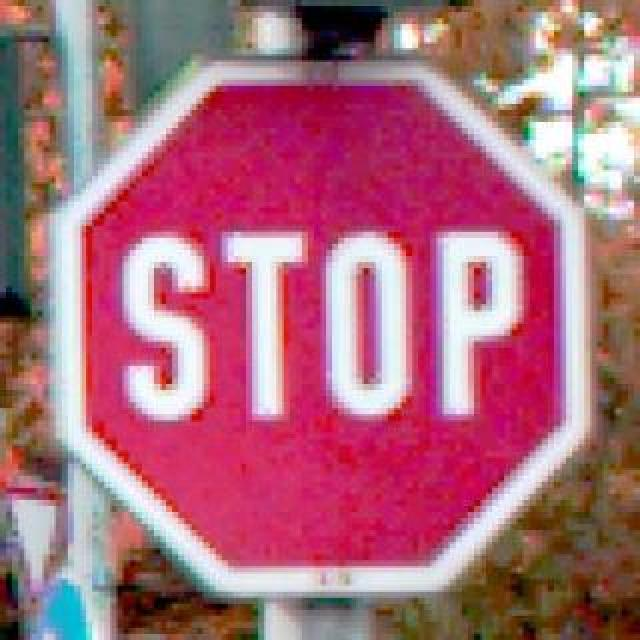stop: (38, 50, 586, 592)
